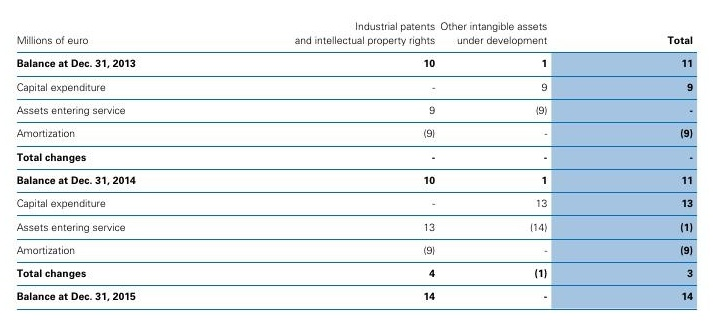table: (0, 0, 713, 326)
